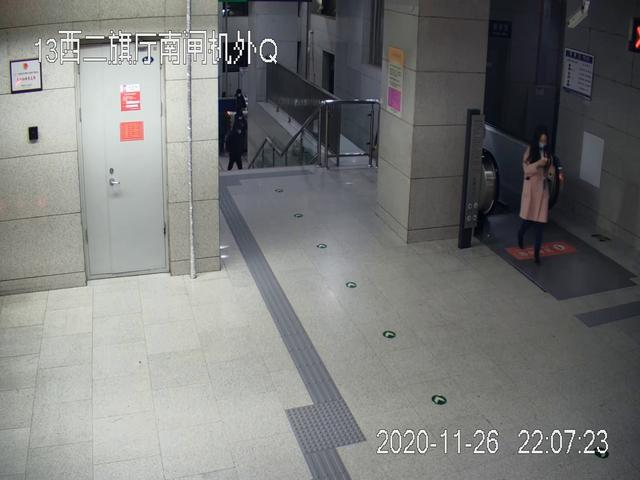person: (517, 126, 558, 259)
